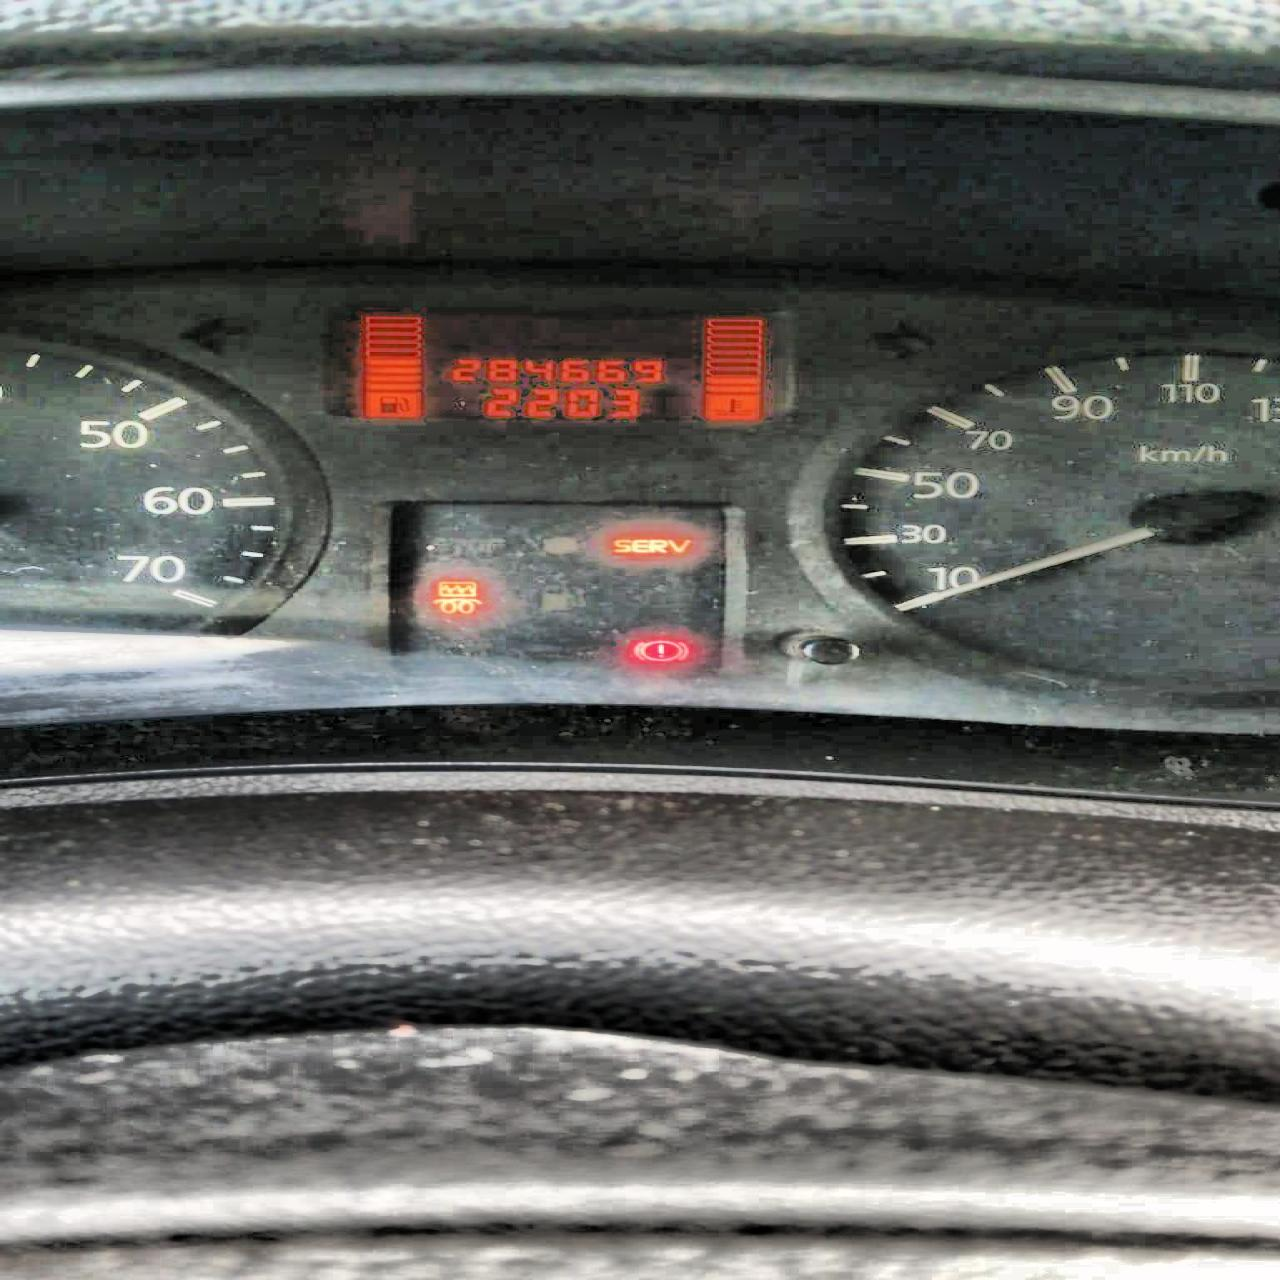0: (566, 388, 599, 417)
2: (524, 387, 558, 416), (484, 387, 516, 416), (449, 359, 481, 381)
3: (610, 388, 639, 417)
4: (522, 359, 553, 382)
6: (559, 359, 590, 382), (595, 360, 625, 382)
8: (486, 359, 516, 382)
9: (633, 360, 662, 382)
odometer: (325, 304, 808, 427)
